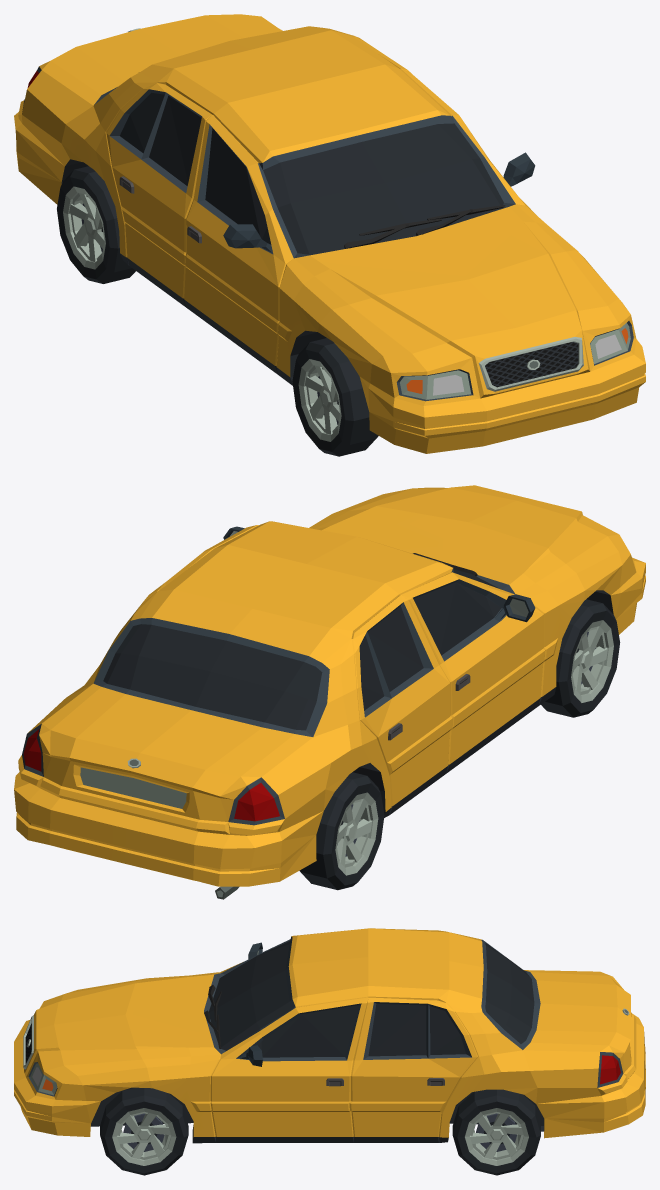
The model's file is Sedan_Yellow.fbx.
3 views of the same model, one above another, from view 1: azimuth 30°, elevation 25°; view 2: azimuth 150°, elevation 25°; view 3: azimuth 270°, elevation 25° (orthographic). The views are drawn at different scales.
Visible parts, largest first — view 1: SM_Veh_Car_Sedan_01.006, SM_Veh_Car_Sedan_Wheel_fr.006, SM_Veh_Car_Sedan_Wheel_rr.006; view 2: SM_Veh_Car_Sedan_01.006, SM_Veh_Car_Sedan_Wheel_rr.006, SM_Veh_Car_Sedan_Wheel_fr.006; view 3: SM_Veh_Car_Sedan_01.006, SM_Veh_Car_Sedan_Wheel_fl.006, SM_Veh_Car_Sedan_Wheel_rl.006.
Part boxes in pixels (x1,y1,x2,y2): SM_Veh_Car_Sedan_01.006: (14, 14, 645, 453); SM_Veh_Car_Sedan_Wheel_fr.006: (292, 338, 378, 456); SM_Veh_Car_Sedan_Wheel_rr.006: (57, 166, 135, 283); SM_Veh_Car_Sedan_01.006: (14, 485, 645, 899); SM_Veh_Car_Sedan_Wheel_rr.006: (299, 772, 384, 890); SM_Veh_Car_Sedan_Wheel_fr.006: (541, 599, 620, 717); SM_Veh_Car_Sedan_01.006: (14, 928, 645, 1143); SM_Veh_Car_Sedan_Wheel_fl.006: (100, 1087, 188, 1175); SM_Veh_Car_Sedan_Wheel_rl.006: (452, 1089, 540, 1175).
Size of the model in its own units: 2.25 by 1.59 by 5.34.
